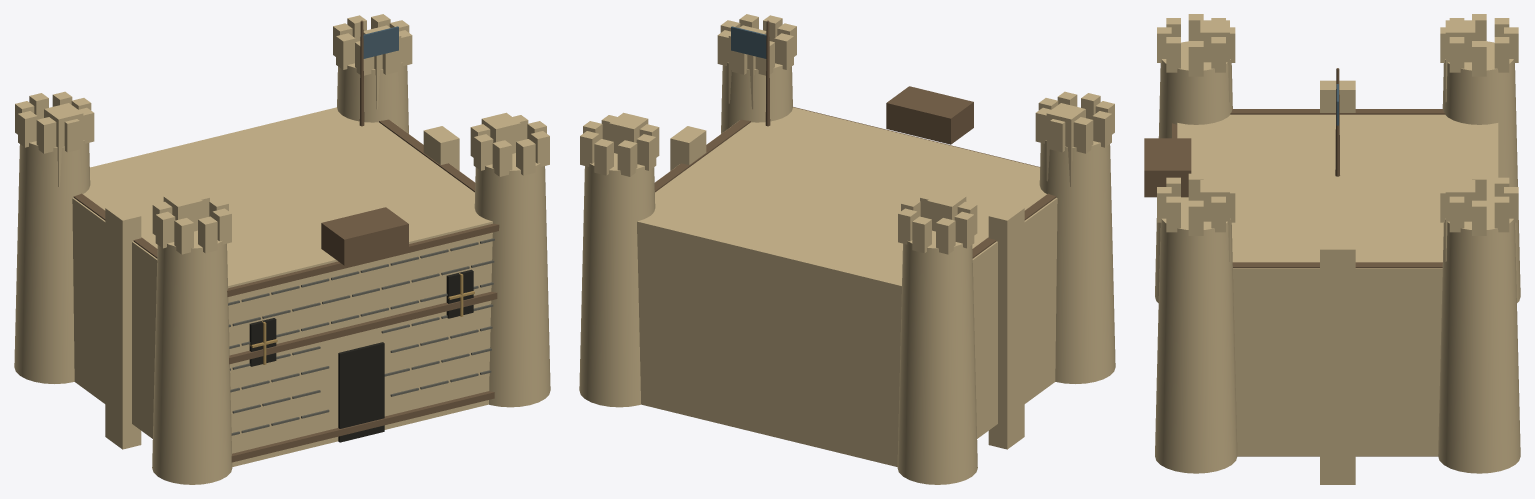
The model's file is b-keep-ayyubid.glb.
3 renders of one model, left to right at view 1: azimuth 30°, elevation 25°; view 2: azimuth 150°, elevation 25°; view 3: azimuth 270°, elevation 25°, orthographic. The views are drawn at different scales.
Parts seen in each view (by area): view 1: Structure, fortification3, fortification2; view 2: Structure, fortification3, fortification2; view 3: Structure, fortification3, fortification2.
Boxes of the visible parts, <box> form: Structure: <box>14,14,550,484</box>; fortification3: <box>44,25,520,449</box>; fortification2: <box>57,67,459,437</box>; Structure: <box>579,14,1115,484</box>; fortification3: <box>609,25,1085,449</box>; fortification2: <box>670,67,1072,437</box>; Structure: <box>1155,14,1520,473</box>; fortification3: <box>1144,20,1475,484</box>; fortification2: <box>1228,65,1447,472</box>.
Size of the model in its own units: 7.8 by 6.95 by 6.38.
